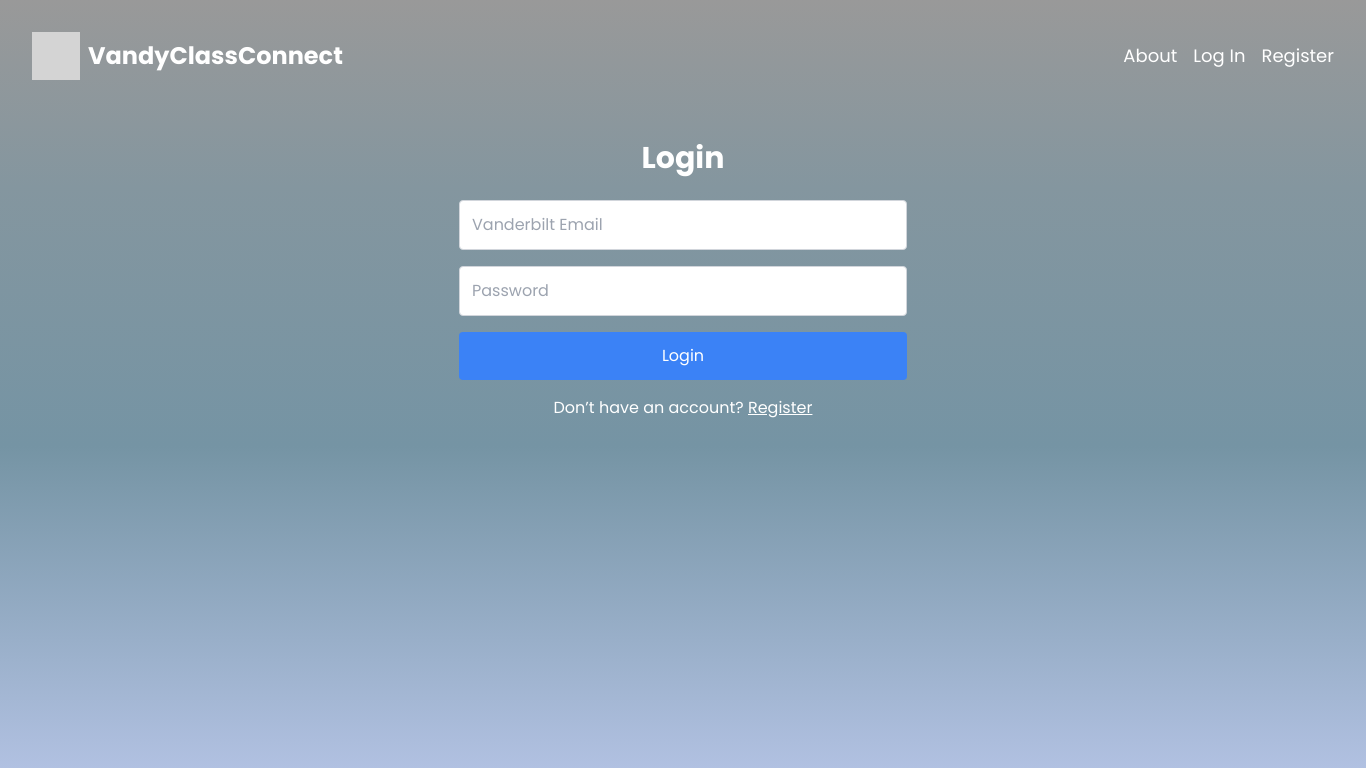
Test: Login Page › should display an error message with invalid credentials
The image size is (1366, 768).
# Input invalid credentials and attempt login
Step 1. Type "invaliduser@vanderbilt.edu" into the field with placeholder "Vanderbilt Email" → [683, 225], box [459,200,907,250]
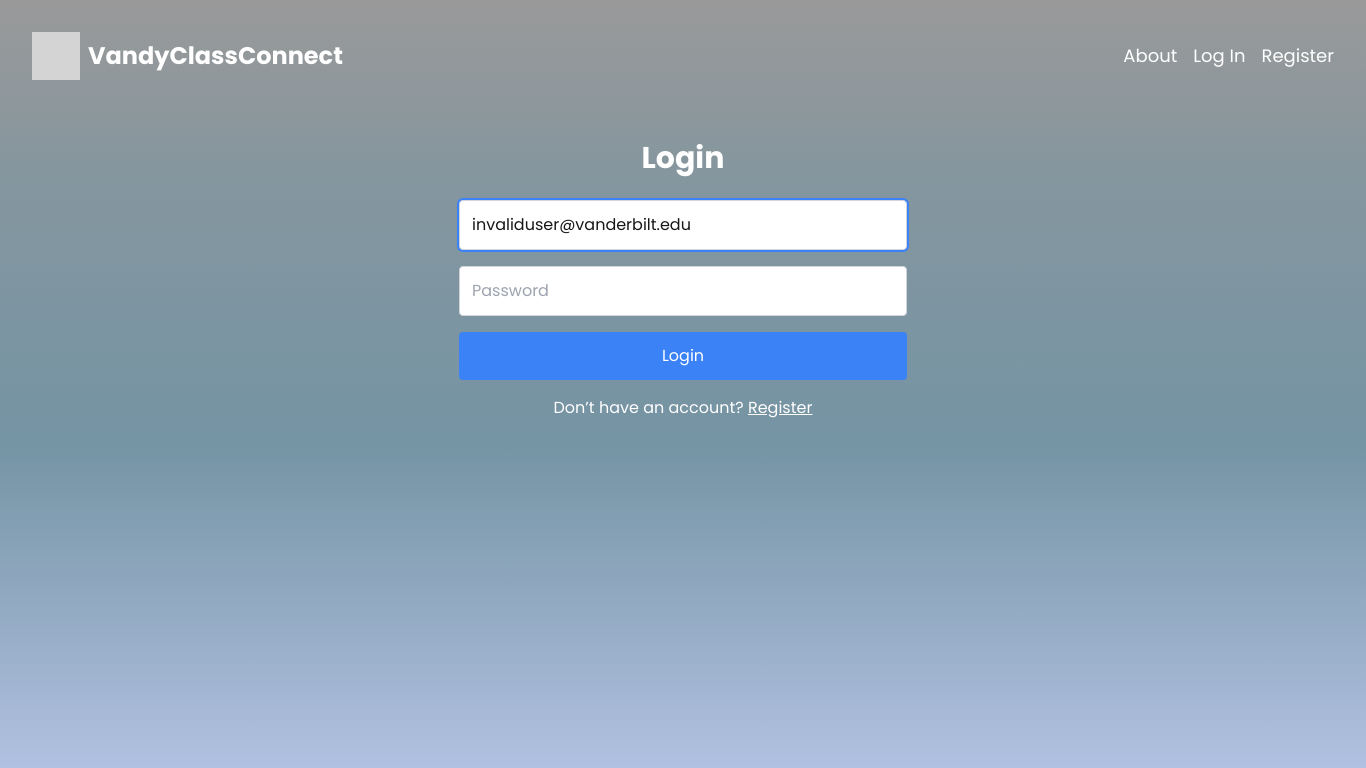
Step 2. Type "invalidpassword" into the password field with placeholder "Password" → [683, 291], box [459,266,907,316]
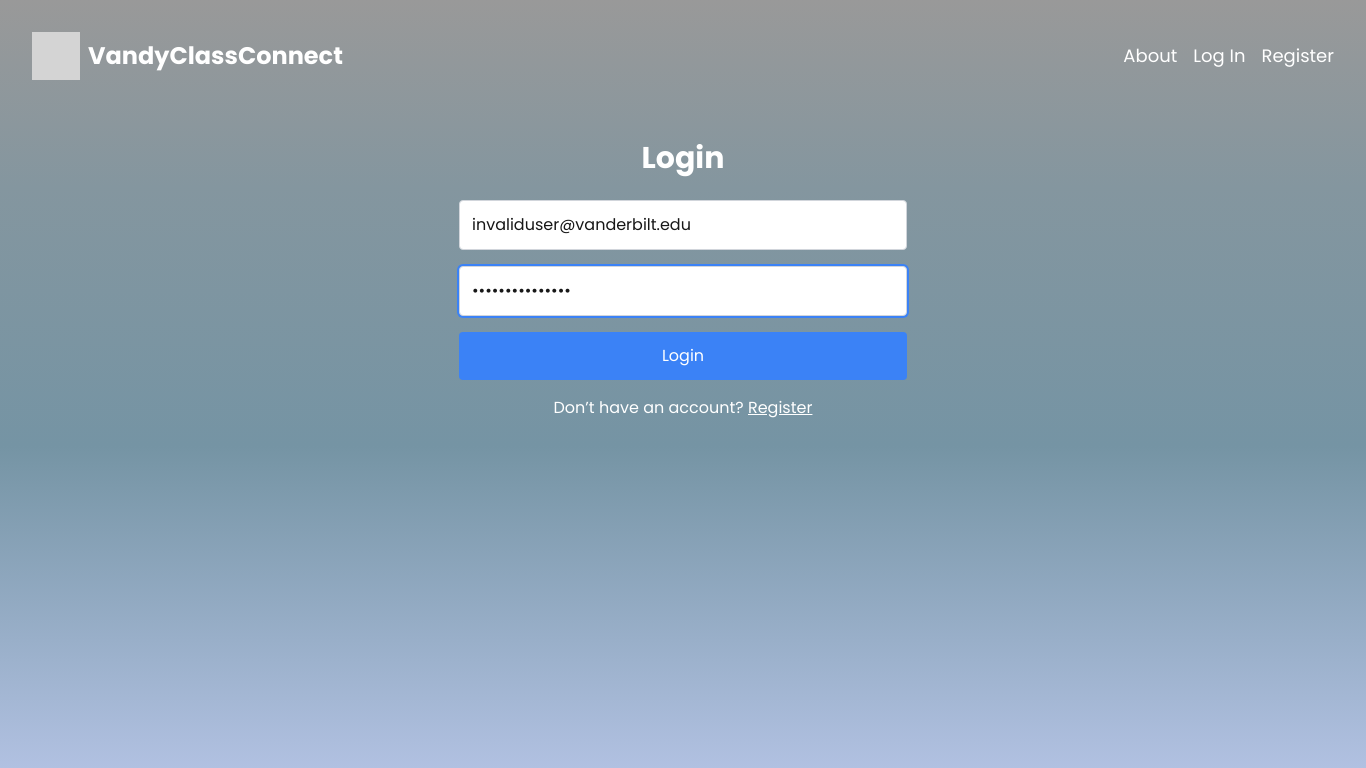
Step 3. Click the submit button → [683, 356], box [459,332,907,380]
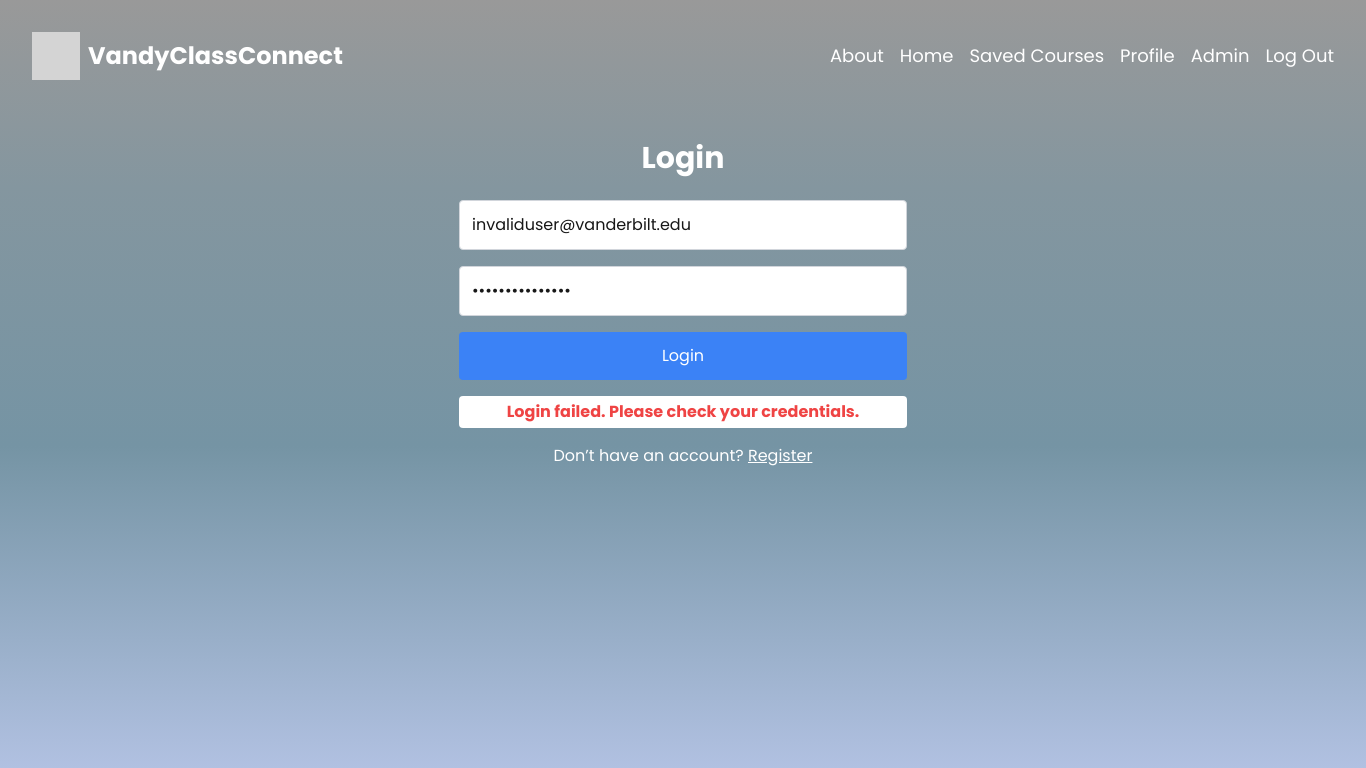
Expected: the text "Login failed. Please check your credentials." is shown, [459,396,907,428]
